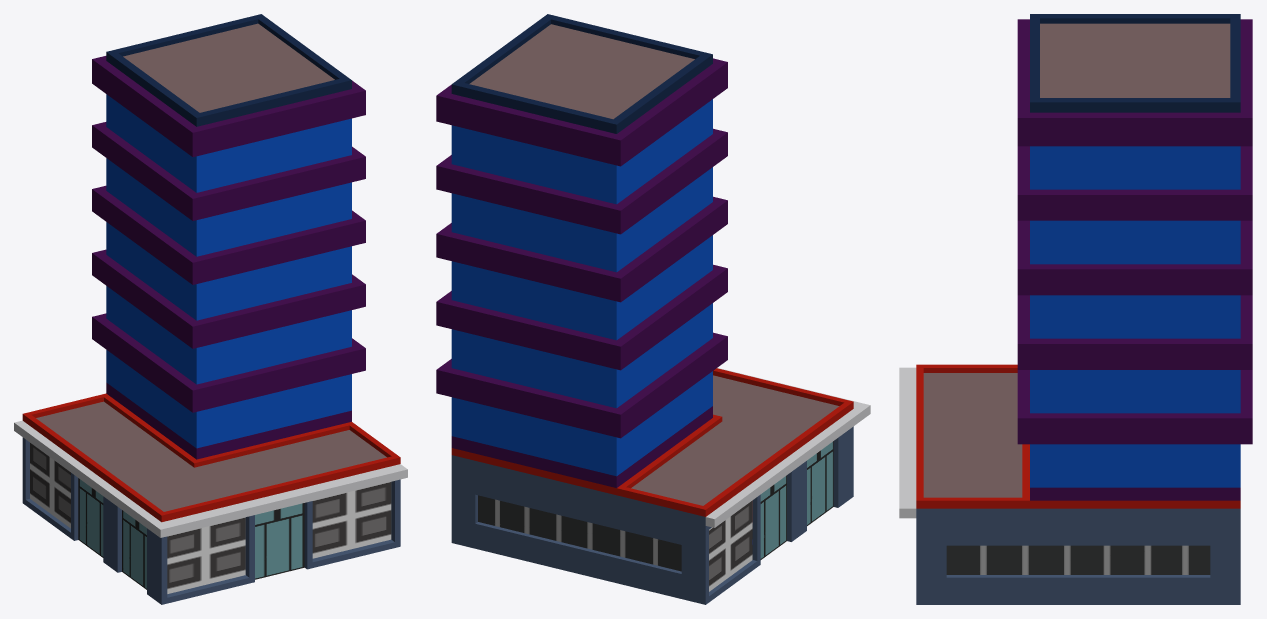
The model's file is building24b.FBX.
The picture shows the model from 3 angles, left to right: view 1: azimuth 30°, elevation 25°; view 2: azimuth 150°, elevation 25°; view 3: azimuth 270°, elevation 25°; orthographic projection. The views are drawn at different scales.
Visible parts, largest first — view 1: building24b; view 2: building24b; view 3: building24b.
Boxes of the visible parts, left/top/right/bottom form: building24b: left=14, top=14, right=407, bottom=604; building24b: left=436, top=14, right=870, bottom=604; building24b: left=899, top=14, right=1252, bottom=604.
Size of the model in its own units: 21.57 by 34.64 by 22.09.
